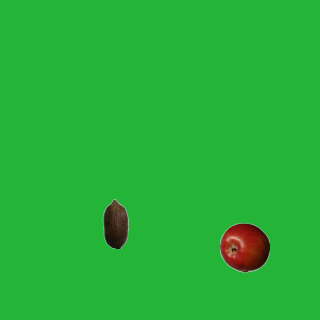Apple Braeburn: (219, 222, 269, 272)
Nut Pecan: (90, 198, 140, 248)
